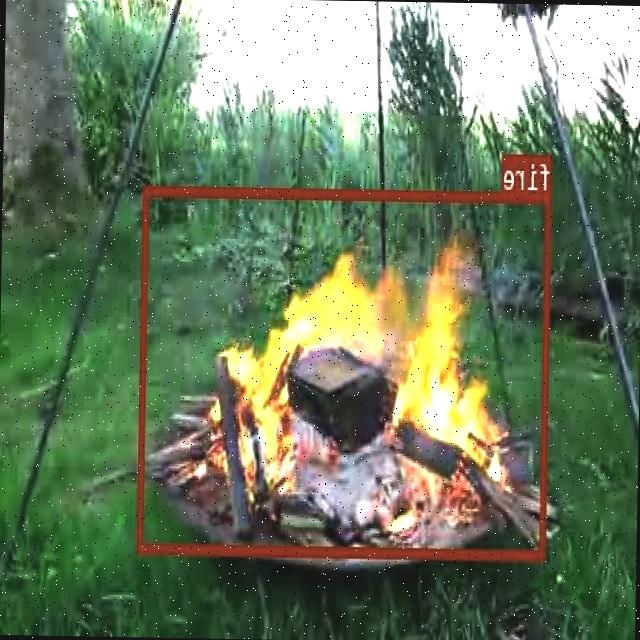fire: (138, 184, 552, 558)
